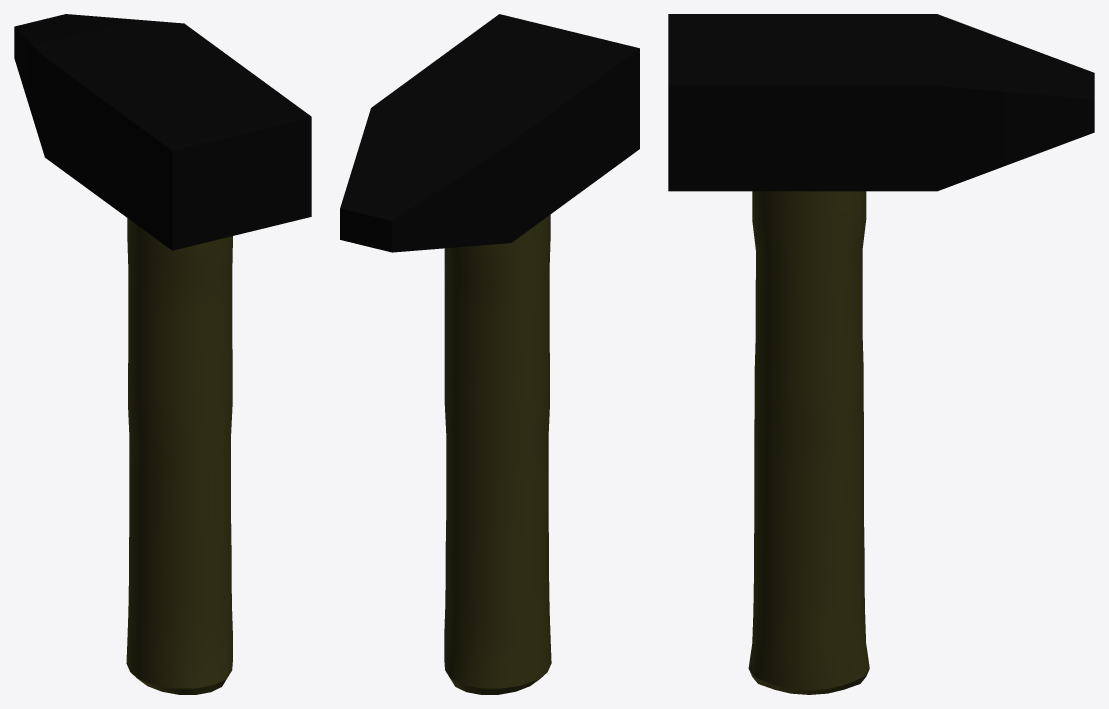
Rendered from Martillo.fbx.
3 renders of one model, left to right at view 1: azimuth 30°, elevation 25°; view 2: azimuth 150°, elevation 25°; view 3: azimuth 270°, elevation 25°, orthographic. The views are drawn at different scales.
Visible parts, largest first — view 1: Martillo; view 2: Martillo; view 3: Martillo.
Boxes of the visible parts, bbox=[...] form: Martillo: bbox=[14, 14, 311, 694]; Martillo: bbox=[340, 14, 639, 694]; Martillo: bbox=[668, 14, 1094, 694].
Size of the model in its own units: 15.25 by 61.64 by 38.26.
